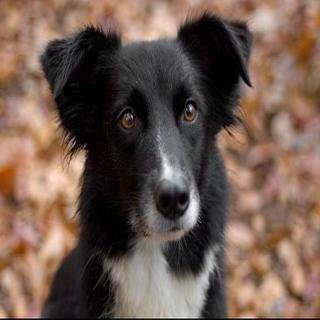dog: (45, 7, 260, 269)
nose: (150, 176, 196, 223)
